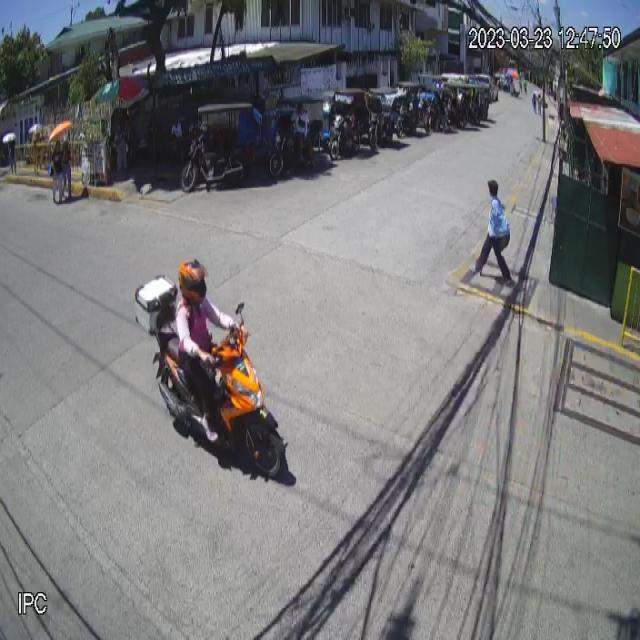Motorcycle: (133, 272, 286, 478)
